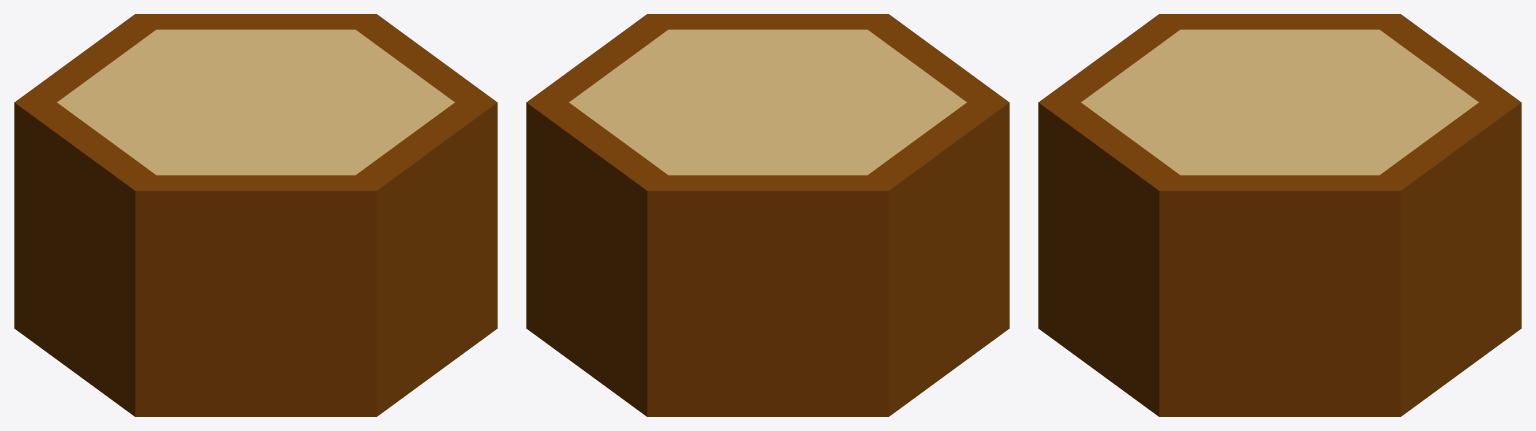
File: BaseArvore.fbx
3 renders of one model, left to right at view 1: azimuth 30°, elevation 25°; view 2: azimuth 150°, elevation 25°; view 3: azimuth 270°, elevation 25°, orthographic.
Parts seen in each view (by area): view 1: Circle.001; view 2: Circle.001; view 3: Circle.001.
Part boxes in pixels (x1,y1,x2,y2): Circle.001: (14, 14, 497, 416); Circle.001: (526, 14, 1009, 416); Circle.001: (1038, 14, 1521, 416).
Size of the model in its own units: 55.1 by 32.86 by 63.62.
